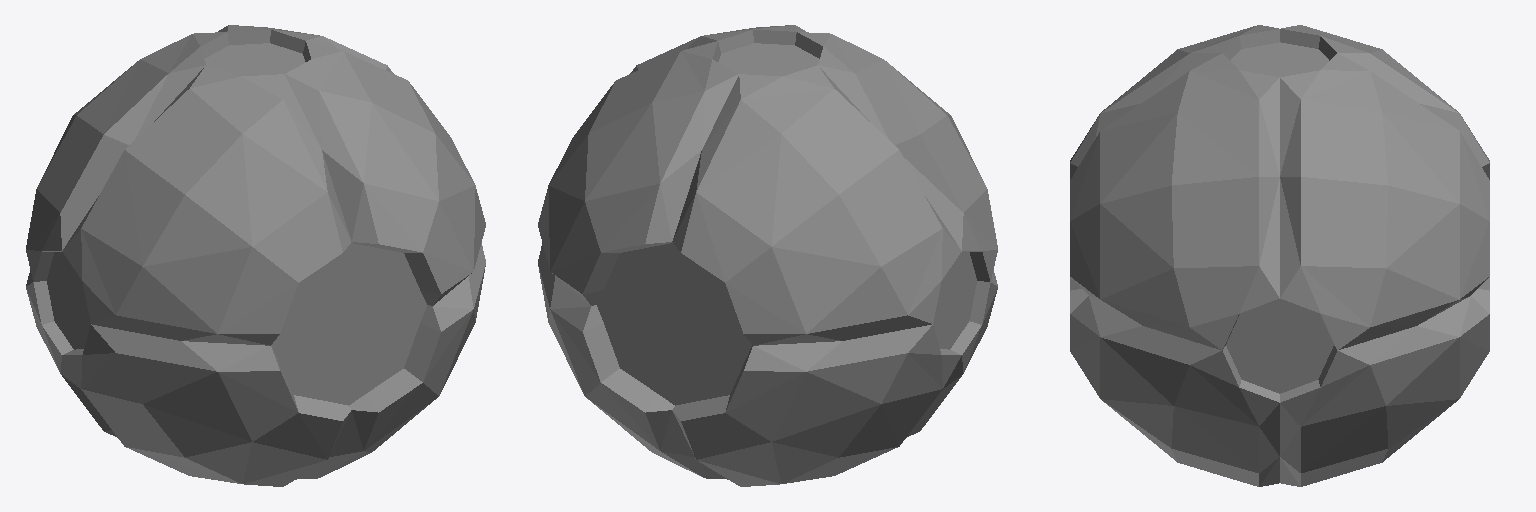
Rendered from ball.obj.
The picture shows the model from 3 angles: view 1: azimuth 30°, elevation 25°; view 2: azimuth 150°, elevation 25°; view 3: azimuth 270°, elevation 25°; orthographic projection.
Visible parts, largest first — view 1: ball_mesh; view 2: ball_mesh; view 3: ball_mesh.
Boxes of the visible parts, x1=… form: ball_mesh: x1=26, y1=25, x2=485, y2=486; ball_mesh: x1=538, y1=25, x2=997, y2=486; ball_mesh: x1=1070, y1=25, x2=1489, y2=486.
Bounding box in the file's own units: 31.43 × 31.44 × 29.46.